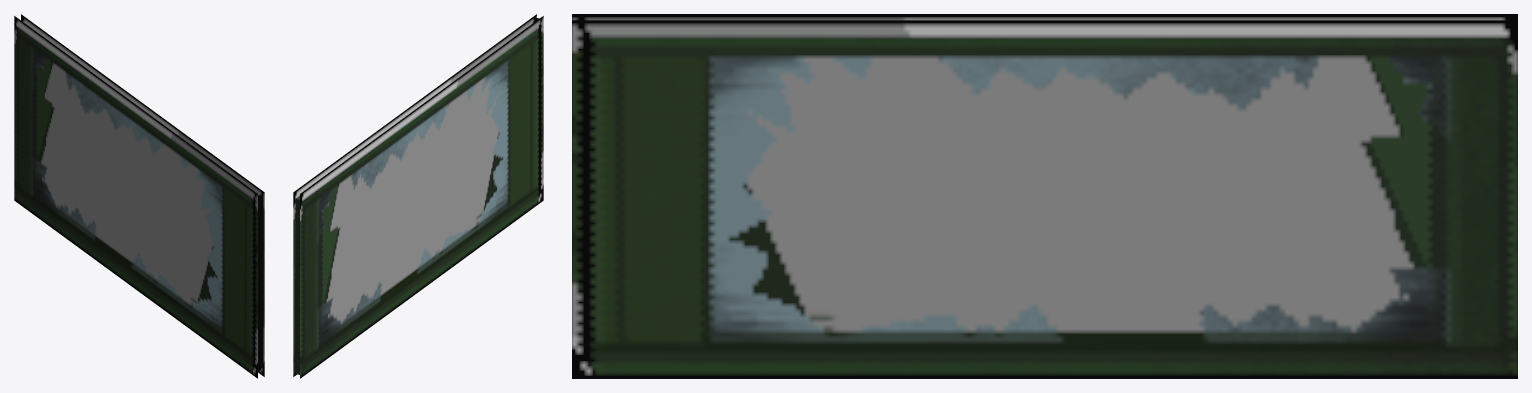
File: pz_native_location_shop_greenes_01_65_frame.obj
The picture shows the model from 3 angles, left to right: view 1: azimuth 30°, elevation 25°; view 2: azimuth 150°, elevation 25°; view 3: azimuth 270°, elevation 25°; orthographic projection. The views are drawn at different scales.
Visible parts, largest first — view 1: pz_native_location_shop_greenes_01_65_frame; view 2: pz_native_location_shop_greenes_01_65_frame; view 3: pz_native_location_shop_greenes_01_65_frame.
Part boxes in pixels (x1=…): pz_native_location_shop_greenes_01_65_frame: x1=14, y1=14, x2=264, y2=378; pz_native_location_shop_greenes_01_65_frame: x1=293, y1=14, x2=543, y2=378; pz_native_location_shop_greenes_01_65_frame: x1=572, y1=14, x2=1517, y2=378.
Size of the model in its own units: 0.04 by 1.06 by 2.54.
1 material, 1 textured.
